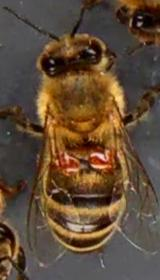varroa_mite: (84, 147, 117, 174), (56, 148, 82, 172)
